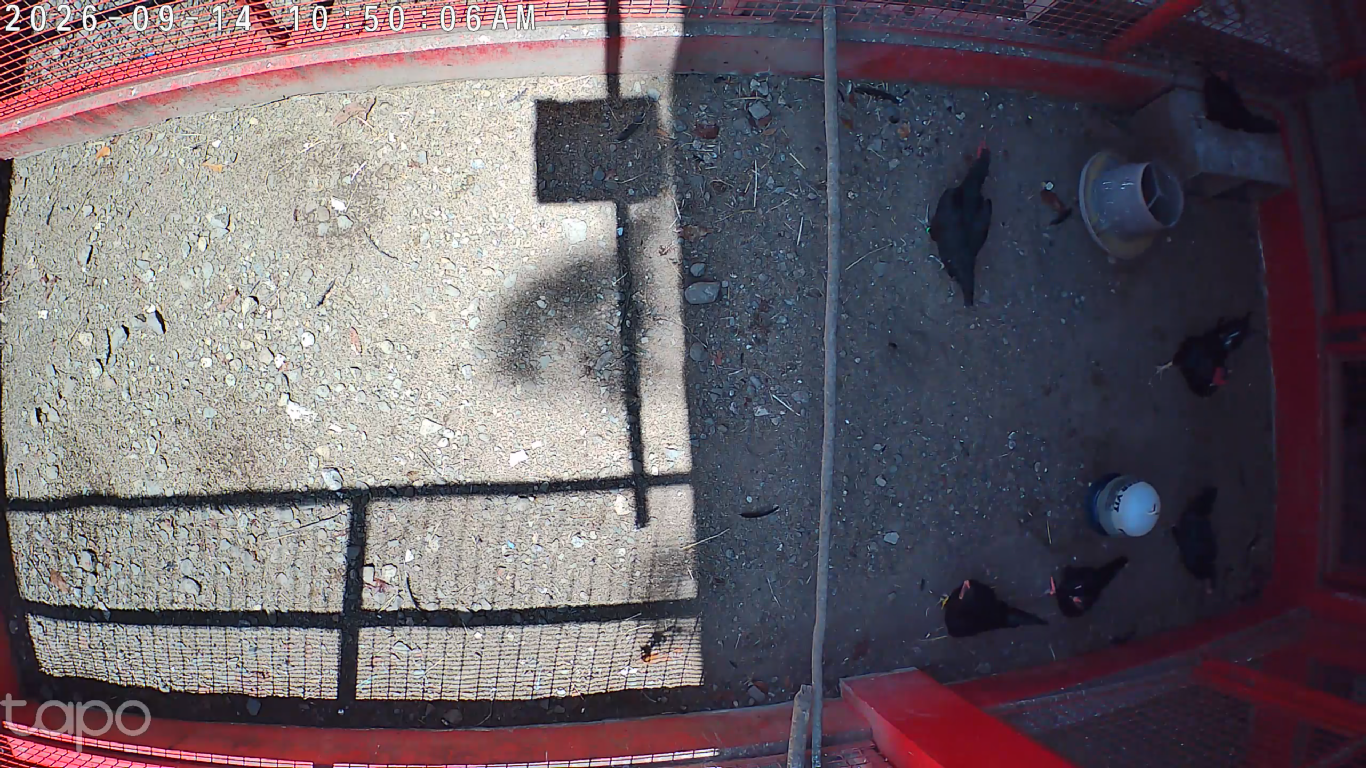Chicken: (915, 138, 995, 314), (937, 578, 1049, 640), (1042, 555, 1128, 619)
Rooster: (1150, 312, 1257, 399)
